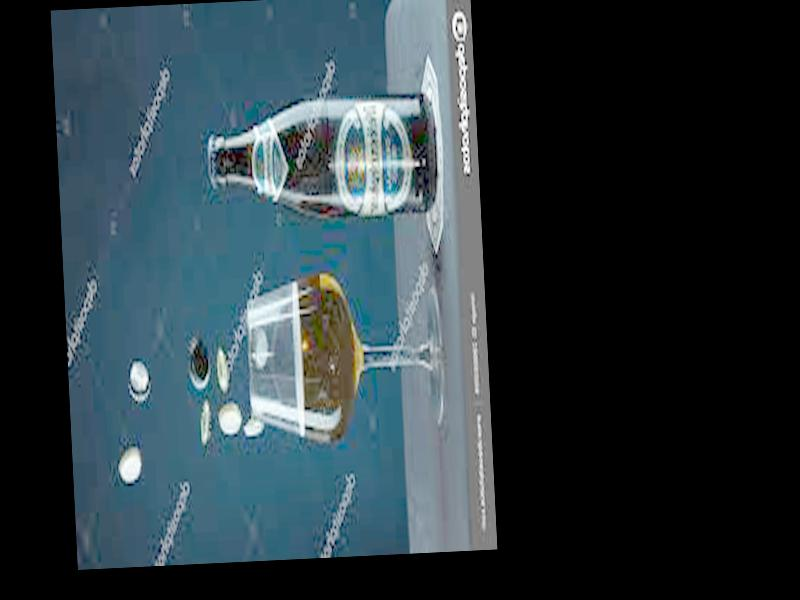Beer: (208, 96, 436, 220)
